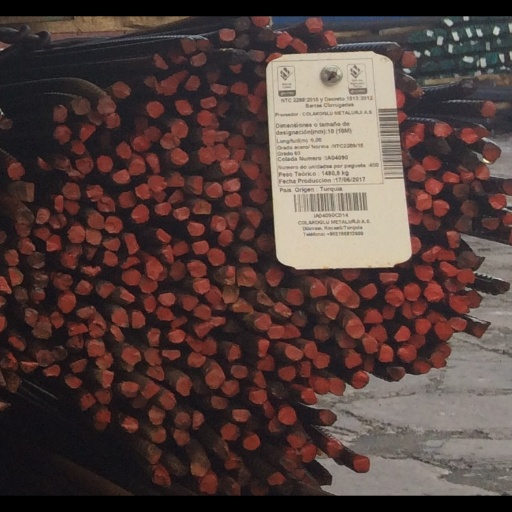dipstick: (167, 466, 191, 491), (346, 320, 365, 343), (397, 348, 417, 369), (278, 415, 297, 437), (235, 268, 255, 288), (152, 481, 172, 501), (215, 265, 234, 286), (111, 310, 129, 332), (122, 231, 139, 254), (207, 377, 224, 400), (121, 352, 141, 371), (344, 357, 363, 377), (423, 285, 443, 304), (460, 250, 480, 269), (144, 372, 165, 390), (185, 358, 206, 376), (425, 171, 443, 192), (462, 142, 480, 163), (53, 115, 70, 137), (245, 203, 262, 225), (265, 266, 282, 288), (361, 339, 378, 361), (438, 260, 460, 277), (191, 469, 207, 492), (71, 86, 90, 105), (131, 128, 150, 147), (120, 270, 139, 289), (8, 339, 27, 358), (364, 312, 383, 331), (385, 289, 404, 308), (434, 327, 453, 346), (408, 158, 427, 177), (318, 419, 336, 439), (310, 385, 330, 403), (337, 337, 357, 355), (423, 210, 441, 230), (458, 196, 478, 214), (487, 189, 507, 207), (199, 488, 216, 509), (351, 377, 368, 398), (154, 67, 176, 83), (231, 301, 253, 317), (283, 444, 305, 460), (249, 182, 268, 200), (67, 223, 85, 242), (131, 202, 149, 221), (238, 245, 257, 263), (139, 278, 158, 296), (187, 261, 206, 279), (147, 415, 166, 433), (285, 291, 304, 309), (447, 298, 465, 317), (445, 229, 464, 247), (171, 111, 188, 131), (154, 309, 174, 326), (221, 287, 238, 307), (159, 400, 176, 420), (201, 344, 218, 364), (149, 437, 166, 457), (174, 420, 191, 440), (6, 268, 23, 288), (370, 328, 387, 348), (415, 188, 432, 208), (482, 135, 499, 155), (219, 154, 240, 170), (410, 367, 431, 383), (60, 296, 75, 318), (191, 422, 206, 444), (4, 380, 19, 402), (197, 140, 215, 158), (144, 353, 162, 371), (185, 339, 203, 357), (274, 305, 292, 323), (333, 283, 351, 301), (414, 323, 432, 341), (491, 281, 509, 299), (204, 51, 221, 70), (169, 141, 188, 158), (88, 324, 105, 343), (192, 279, 209, 298), (193, 307, 210, 326), (174, 439, 191, 458), (17, 236, 36, 253), (191, 385, 208, 404), (269, 389, 286, 408), (221, 493, 238, 512), (352, 468, 369, 487), (359, 285, 376, 304), (413, 302, 430, 321), (316, 486, 335, 503), (65, 176, 81, 196), (160, 124, 180, 140), (195, 99, 215, 115), (194, 194, 210, 214), (86, 347, 106, 363), (310, 280, 326, 300), (465, 293, 481, 313), (451, 178, 471, 194), (146, 259, 161, 280), (2, 358, 17, 379), (329, 385, 344, 406), (281, 351, 302, 366), (97, 86, 115, 103), (105, 214, 122, 232), (155, 225, 172, 243), (53, 147, 71, 164), (253, 317, 271, 334), (446, 278, 463, 296), (432, 196, 449, 214), (116, 290, 135, 306), (50, 210, 66, 229), (26, 253, 45, 269), (250, 378, 266, 397), (326, 452, 342, 471), (313, 328, 329, 347), (386, 374, 405, 390), (454, 215, 473, 231), (423, 148, 442, 164), (41, 371, 61, 386), (473, 323, 488, 343), (215, 452, 228, 475), (145, 146, 159, 167), (258, 232, 272, 253), (147, 332, 161, 353), (175, 383, 189, 404), (339, 269, 360, 283), (146, 90, 163, 107), (119, 187, 136, 204), (206, 177, 223, 194), (208, 249, 225, 266), (180, 297, 197, 314), (96, 360, 113, 377), (121, 389, 138, 406), (94, 419, 111, 436), (121, 427, 138, 444), (36, 148, 53, 165), (250, 398, 267, 415), (221, 435, 238, 452), (266, 428, 283, 445), (322, 307, 339, 324), (393, 330, 410, 347), (307, 0, 323, 18), (173, 89, 191, 105), (243, 156, 259, 174), (97, 194, 115, 210), (169, 183, 185, 201), (223, 172, 241, 188), (186, 218, 204, 234), (218, 229, 234, 247), (83, 243, 99, 261), (62, 253, 78, 271), (142, 390, 158, 408), (17, 206, 35, 222), (44, 234, 62, 250), (256, 293, 274, 309), (231, 417, 249, 433), (300, 458, 316, 476), (459, 118, 477, 134), (66, 326, 88, 339), (408, 234, 421, 256), (135, 179, 150, 198), (224, 189, 243, 204), (131, 315, 146, 334), (167, 334, 186, 349), (193, 327, 212, 342), (146, 458, 161, 477), (12, 288, 27, 307), (292, 313, 307, 332), (209, 404, 228, 419), (404, 285, 419, 304), (436, 130, 451, 149), (347, 295, 361, 315), (378, 273, 398, 287), (227, 208, 240, 229), (80, 265, 101, 278), (262, 411, 275, 432), (232, 0, 249, 16), (223, 35, 240, 51), (86, 180, 103, 196), (148, 169, 165, 185), (153, 198, 170, 214), (173, 202, 189, 219), (210, 212, 226, 229), (76, 282, 92, 299), (32, 271, 48, 288), (51, 352, 67, 369), (243, 447, 260, 463), (257, 363, 274, 379), (430, 358, 447, 374), (436, 347, 452, 364), (427, 315, 444, 331), (291, 23, 309, 38), (79, 115, 94, 133), (113, 164, 131, 179), (88, 210, 103, 228), (206, 290, 221, 308), (64, 382, 82, 397), (8, 155, 23, 173), (33, 224, 51, 239), (228, 350, 243, 368), (225, 468, 240, 486), (379, 307, 394, 325), (475, 157, 490, 175), (433, 113, 451, 128), (201, 120, 215, 139), (52, 94, 66, 113), (304, 347, 318, 366), (378, 350, 392, 369), (408, 202, 421, 222), (480, 215, 500, 228), (152, 40, 168, 56), (113, 70, 129, 86), (75, 151, 91, 167), (169, 264, 185, 280), (97, 285, 113, 301), (95, 398, 111, 414), (283, 328, 299, 344), (480, 92, 496, 108), (458, 67, 474, 83), (386, 29, 402, 45), (97, 148, 112, 165), (116, 134, 131, 151), (249, 141, 266, 156), (157, 294, 174, 309), (68, 341, 83, 358), (0, 107, 15, 124), (4, 250, 19, 267), (30, 291, 45, 308), (299, 398, 316, 413), (277, 374, 294, 389), (410, 338, 425, 355), (449, 321, 466, 336), (458, 269, 473, 286), (415, 266, 432, 281), (323, 14, 337, 32), (169, 37, 187, 51), (145, 118, 159, 136), (134, 105, 148, 123), (86, 226, 100, 244), (103, 237, 121, 251), (119, 256, 140, 268), (169, 321, 187, 335), (70, 366, 88, 380), (162, 355, 180, 369), (14, 220, 32, 234), (37, 327, 51, 345), (228, 372, 246, 386), (225, 324, 239, 342), (224, 388, 238, 406), (250, 498, 268, 512), (436, 247, 454, 261), (131, 151, 144, 170), (60, 274, 73, 293), (77, 310, 96, 323), (400, 304, 413, 323), (250, 0, 272, 11), (23, 177, 34, 199), (180, 21, 195, 37), (208, 71, 228, 83), (215, 137, 230, 153), (239, 223, 254, 239), (192, 239, 208, 254), (109, 331, 124, 347), (79, 404, 95, 419), (18, 367, 38, 379), (256, 343, 268, 363), (284, 461, 300, 476), (279, 469, 295, 484), (314, 361, 329, 377), (402, 64, 417, 80), (189, 39, 206, 53), (230, 70, 247, 84), (68, 131, 85, 145), (227, 126, 244, 140), (166, 167, 183, 181), (172, 242, 189, 256), (49, 315, 63, 332), (36, 356, 53, 370), (471, 174, 485, 191), (404, 123, 418, 140), (258, 13, 276, 26), (217, 89, 230, 107), (160, 244, 173, 262), (404, 38, 417, 56), (191, 170, 202, 191), (53, 190, 64, 211), (393, 77, 404, 98), (247, 82, 259, 101), (36, 204, 48, 223), (64, 196, 79, 211), (103, 251, 118, 266), (210, 319, 225, 334), (268, 488, 283, 503), (443, 165, 458, 180), (233, 18, 249, 32), (218, 13, 234, 27), (236, 482, 250, 498), (474, 115, 490, 129), (277, 17, 290, 34), (247, 35, 264, 48), (297, 368, 310, 385), (423, 245, 436, 262), (24, 311, 35, 331), (254, 67, 266, 85), (156, 267, 168, 285), (101, 377, 113, 395), (362, 361, 374, 379), (254, 169, 268, 184), (0, 277, 10, 298), (461, 165, 476, 179), (187, 63, 200, 79), (104, 104, 120, 117), (240, 110, 253, 126), (142, 299, 154, 316), (256, 92, 266, 112), (195, 23, 210, 36), (88, 99, 101, 114), (201, 85, 216, 98), (150, 185, 165, 198), (133, 405, 146, 420), (267, 331, 283, 343), (253, 49, 264, 66), (174, 58, 187, 72), (70, 163, 83, 177), (66, 244, 81, 256), (415, 114, 425, 132), (144, 62, 157, 74), (231, 141, 244, 153), (409, 76, 422, 88), (397, 98, 406, 115), (503, 173, 512, 189), (228, 51, 242, 61), (0, 318, 6, 340), (503, 208, 512, 222), (216, 122, 226, 134)
